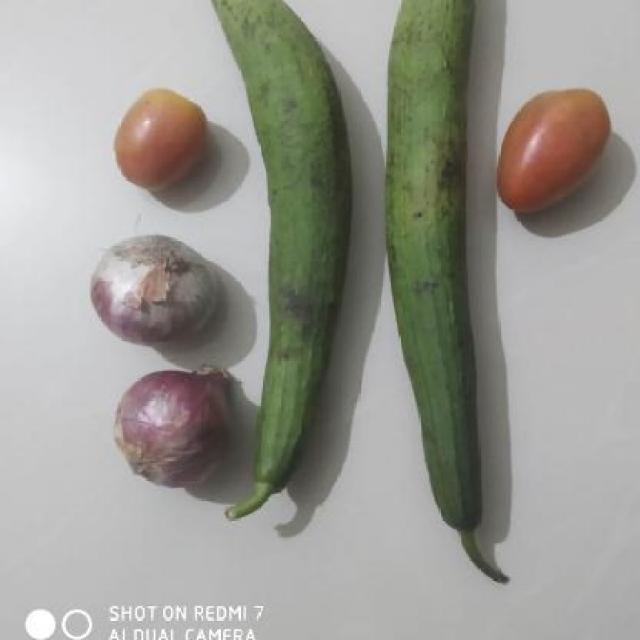onion: (69, 228, 233, 354), (113, 361, 242, 493)
tomato: (494, 75, 623, 232), (100, 84, 218, 196)
